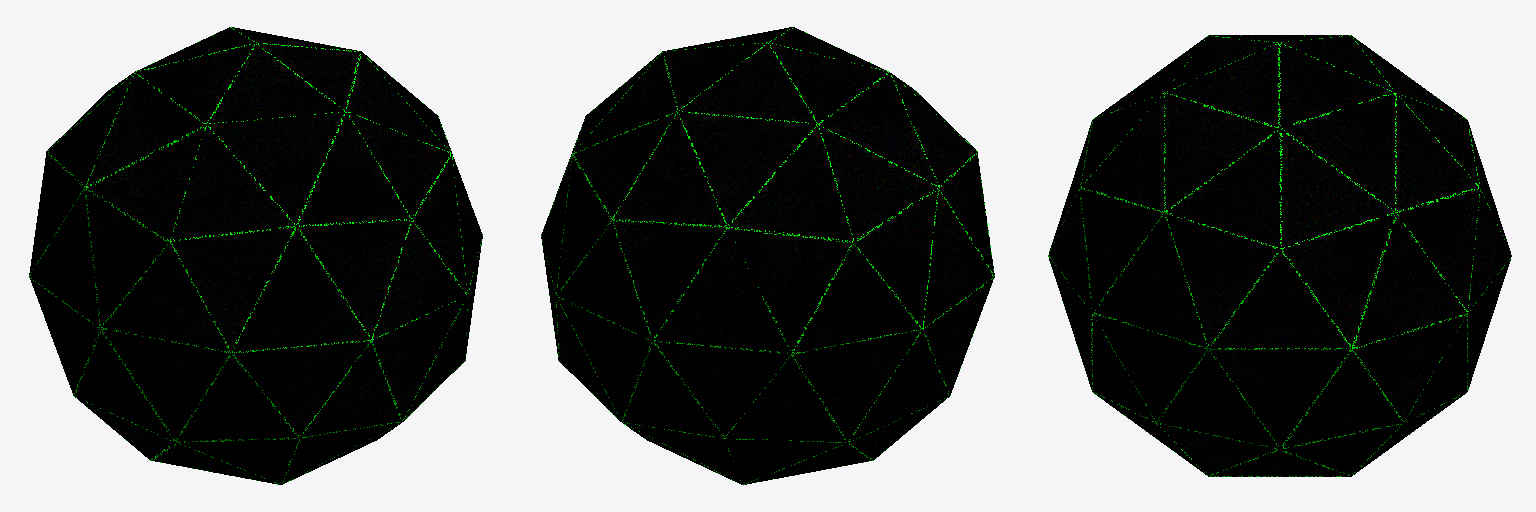
The picture shows the model from 3 angles: view 1: azimuth 30°, elevation 25°; view 2: azimuth 150°, elevation 25°; view 3: azimuth 270°, elevation 25°; orthographic projection.
Visible parts, largest first — view 1: Icosphere; view 2: Icosphere; view 3: Icosphere.
Part boxes in pixels (bbox=[...]): Icosphere: bbox=[29, 27, 482, 484]; Icosphere: bbox=[541, 27, 994, 484]; Icosphere: bbox=[1048, 35, 1511, 476].
Bounding box in the file's own units: 520 × 555 × 547.
1 materials, 1 textured.